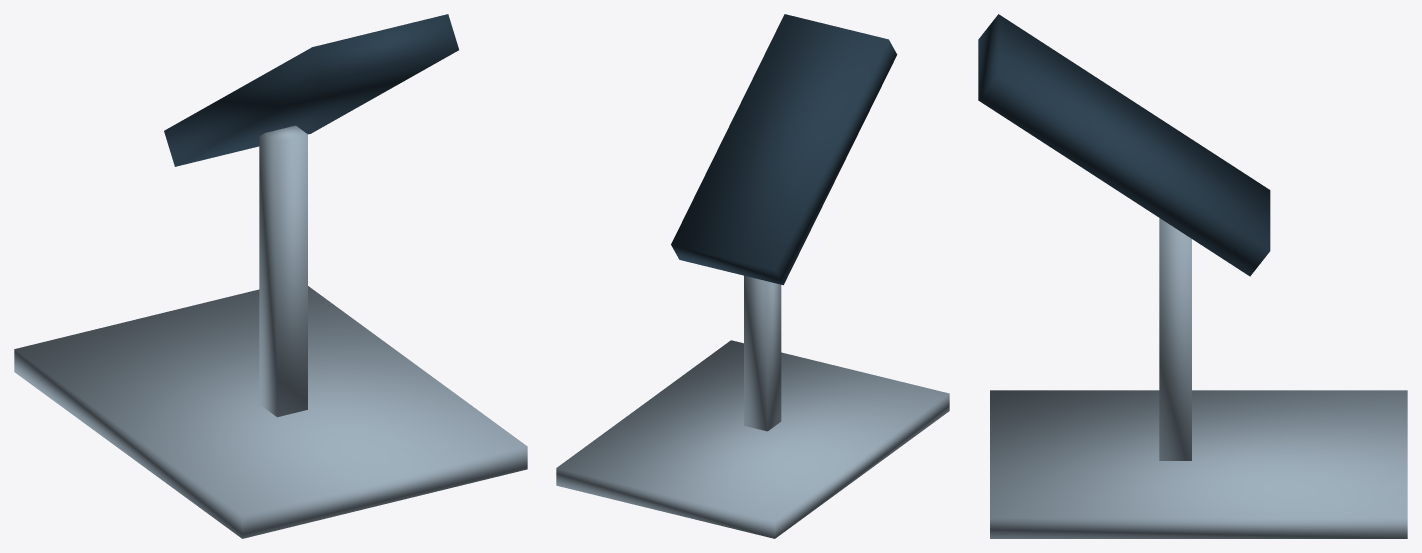
Rendered from bench_prone_incline.glb.
The picture shows the model from 3 angles, left to right: view 1: azimuth 30°, elevation 25°; view 2: azimuth 150°, elevation 25°; view 3: azimuth 270°, elevation 25°; orthographic projection. The views are drawn at different scales.
Parts seen in each view (by area): view 1: base, pad, support; view 2: base, pad, support; view 3: base, pad, support.
Boxes of the visible parts, x1,y1,x2,y2 form: base: (14, 286, 527, 538); pad: (164, 14, 458, 166); support: (259, 125, 307, 417); base: (556, 340, 949, 538); pad: (671, 14, 897, 285); support: (744, 275, 781, 431); base: (990, 390, 1407, 538); pad: (978, 14, 1270, 276); support: (1159, 218, 1191, 460).
Bounding box in the file's own units: 0.65 × 1.02 × 0.925.
